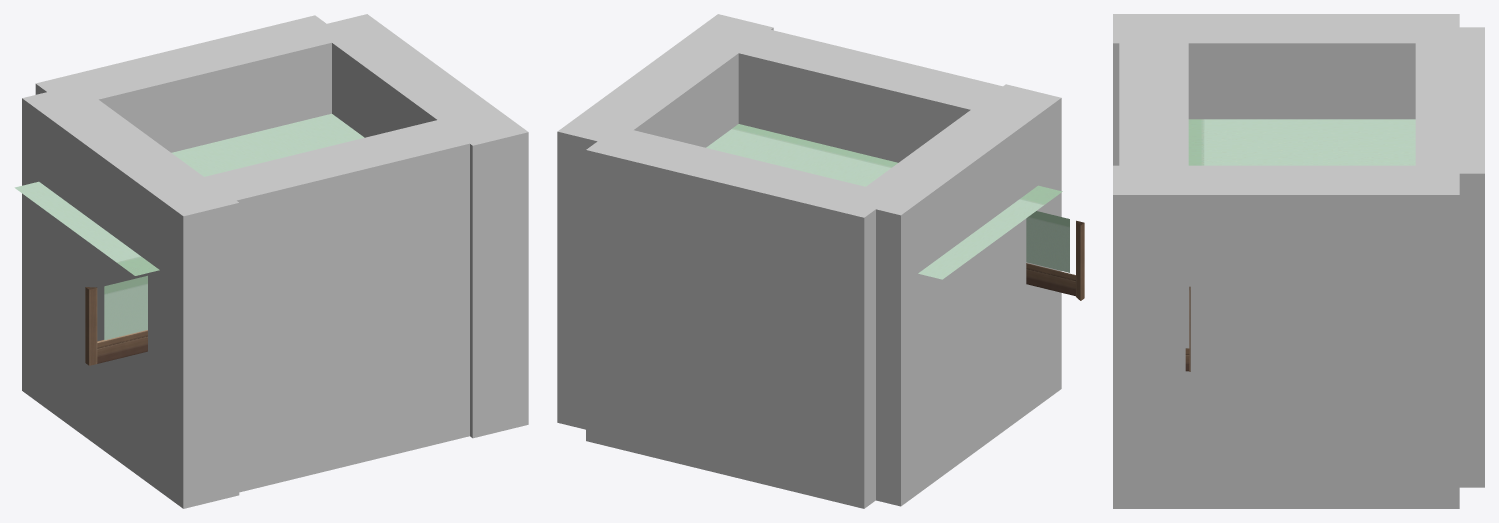
Rendered from maison.glb.
3 renders of one model, left to right at view 1: azimuth 30°, elevation 25°; view 2: azimuth 150°, elevation 25°; view 3: azimuth 270°, elevation 25°, orthographic. The views are drawn at different scales.
Visible parts, largest first — view 1: mur_sud_colli, mur_ouest_colli, mur_est_colli, mur_nord_colli, wall.003, wall.001, f6eaf8380cc1c415500f021dda.001; view 2: mur_nord_colli, mur_ouest_colli, mur_est_colli, mur_sud_colli, wall.003, wall.001, f6eaf8380cc1c415500f021dda.001; view 3: mur_est_colli, mur_ouest_colli, mur_nord_colli, wall.003, mur_sud_colli.
Boxes of the visible parts, x1,y1,x2,y2 form: mur_sud_colli: (179,116,469,492); mur_ouest_colli: (22,84,239,508); mur_est_colli: (312,14,528,438); mur_nord_colli: (35,15,346,152); wall.003: (14,113,364,275); wall.001: (104,275,147,340); f6eaf8380cc1c415500f021dda.001: (85,287,147,365); mur_nord_colli: (586,126,894,508); mur_ouest_colli: (845,84,1061,506); mur_est_colli: (557,14,773,429); mur_sud_colli: (724,27,1033,162); wall.003: (706,124,1062,279); wall.001: (1026,211,1069,272); f6eaf8380cc1c415500f021dda.001: (1026,220,1084,300); mur_est_colli: (1113,165,1459,508); mur_ouest_colli: (1113,14,1459,165); mur_nord_colli: (1415,27,1484,487); wall.003: (1188,119,1415,165); mur_sud_colli: (1119,27,1188,173).
Size of the model in its own units: 1471 by 1000 by 1073.
Materials: 41 (36 with a texture image).
